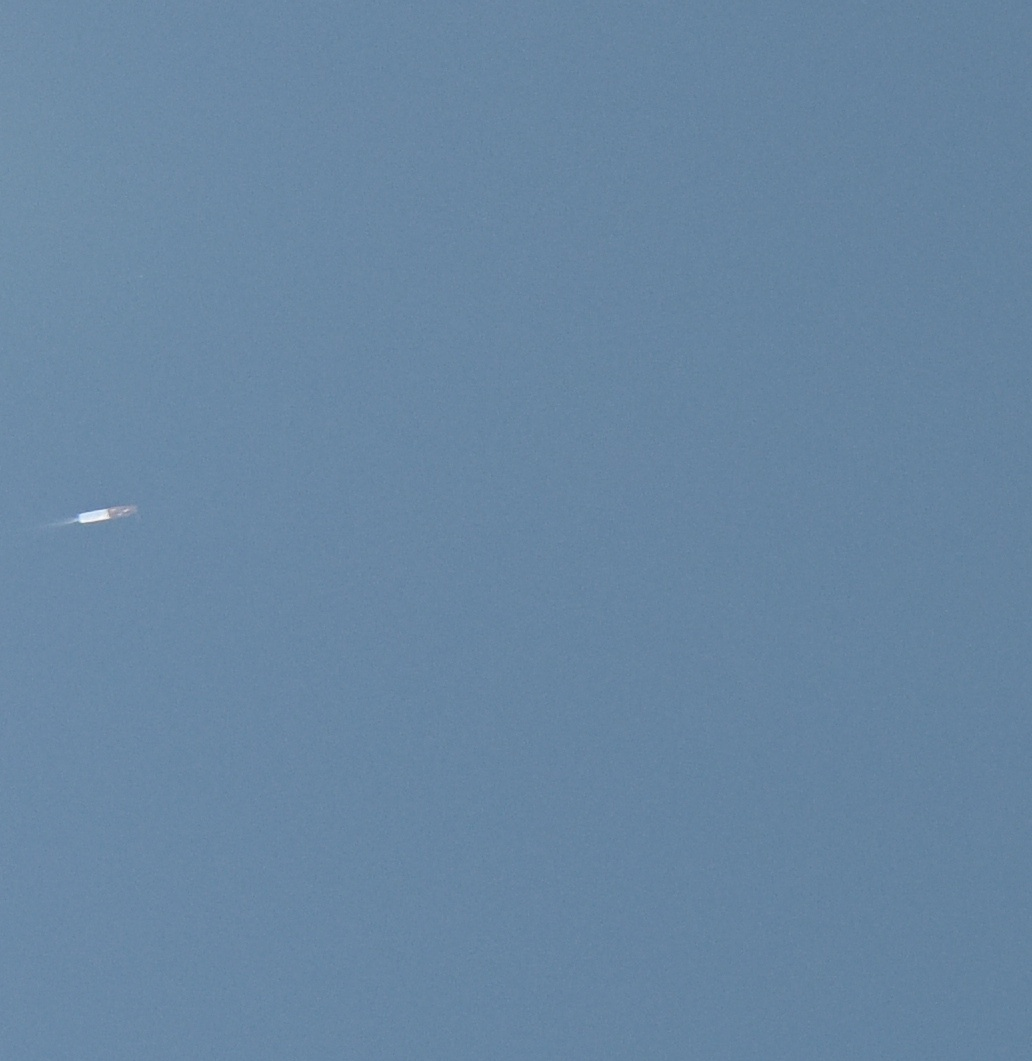ship: (76, 504, 142, 524)
